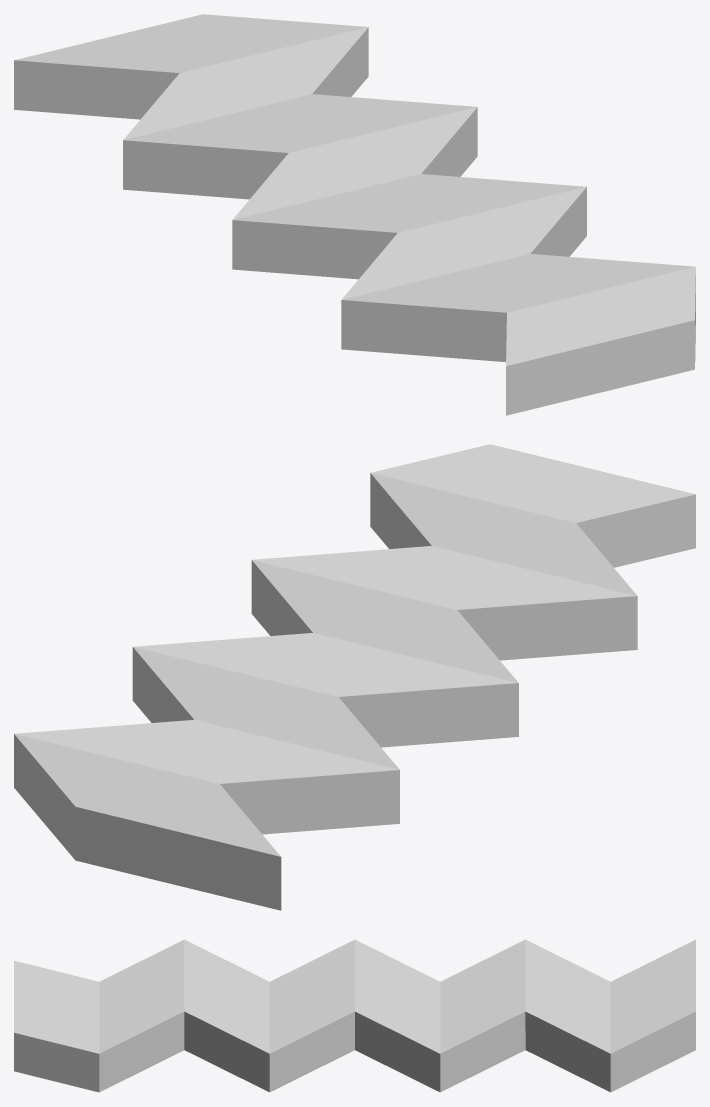
File: road_ZIGZAG.fbx
3 renders of one model, top to bottom at view 1: azimuth 30°, elevation 25°; view 2: azimuth 150°, elevation 25°; view 3: azimuth 270°, elevation 25°, orthographic. The views are drawn at different scales.
Parts seen in each view (by area): view 1: road_01.002; view 2: road_01.002; view 3: road_01.002.
Part boxes in pixels (x1,y1,x2,y2): road_01.002: [14, 14, 695, 415]; road_01.002: [14, 444, 695, 910]; road_01.002: [14, 939, 695, 1092].
Bounding box in the file's own units: 16.21 × 2.55 × 40.83.
